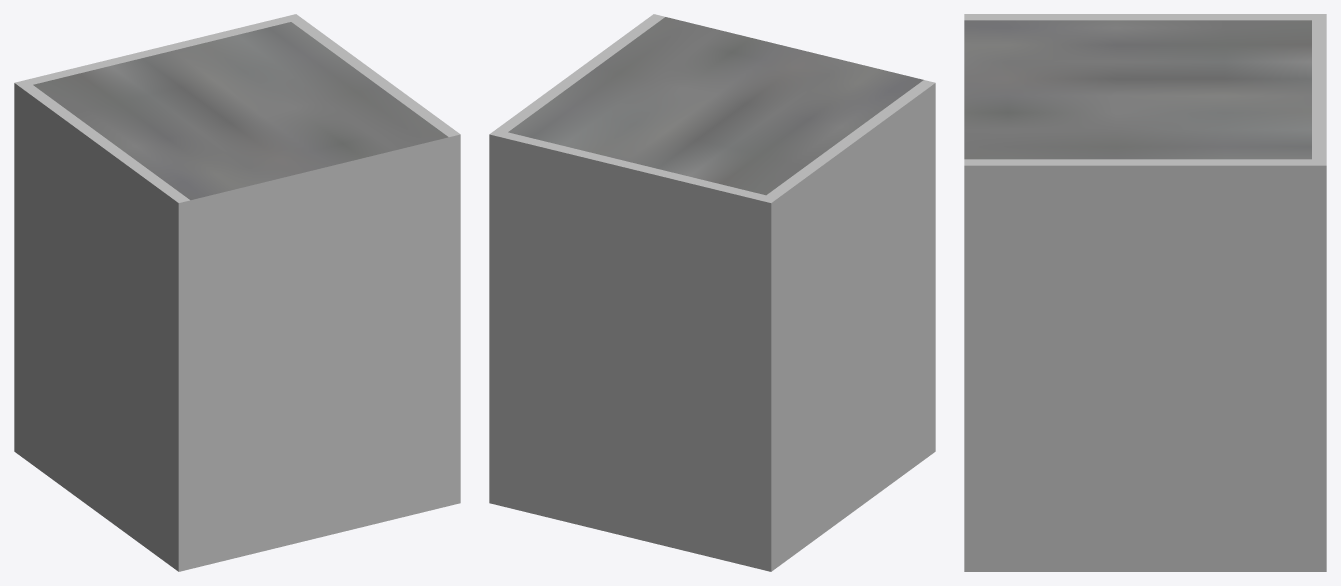
The model's file is JpHouse_23a_site7.fbx.
3 renders of one model, left to right at view 1: azimuth 30°, elevation 25°; view 2: azimuth 150°, elevation 25°; view 3: azimuth 270°, elevation 25°, orthographic. The views are drawn at different scales.
Visible parts, largest first — view 1: JpHouse_23a_site7; view 2: JpHouse_23a_site7; view 3: JpHouse_23a_site7.
Part boxes in pixels (x1=…): JpHouse_23a_site7: x1=14, y1=14, x2=460, y2=571; JpHouse_23a_site7: x1=489, y1=14, x2=935, y2=571; JpHouse_23a_site7: x1=964, y1=14, x2=1326, y2=571.
Bounding box in the file's own units: 2.4 × 3 × 2.43.
